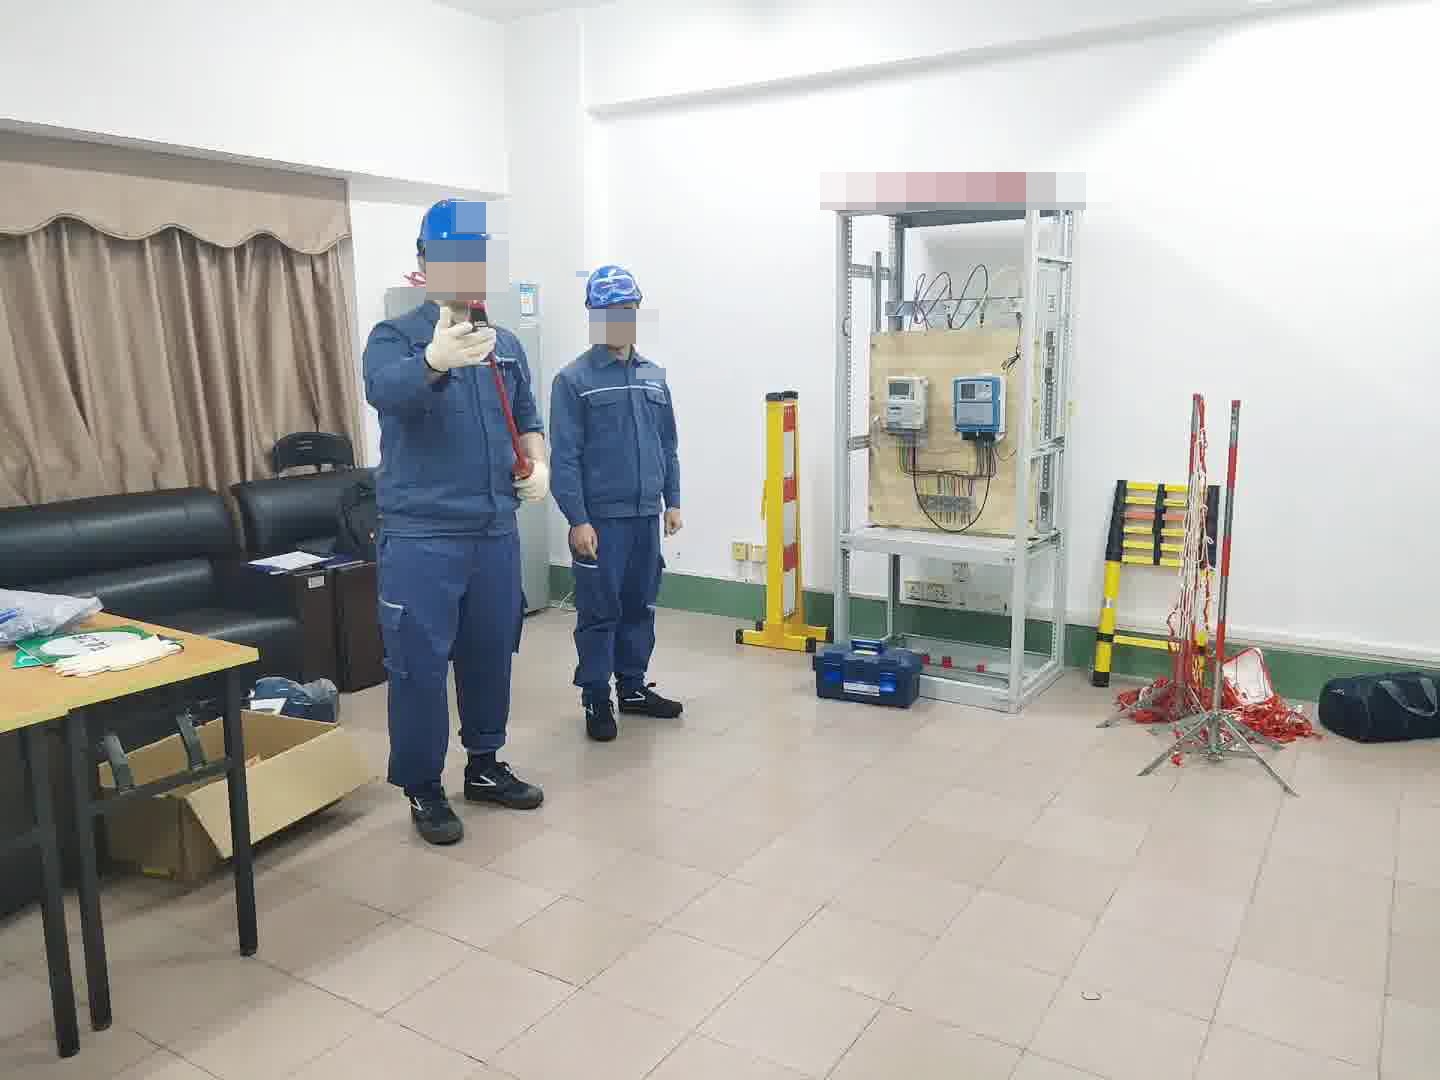downsuit: (377, 553, 530, 797), (569, 527, 666, 700)
halt: (415, 197, 501, 303), (583, 262, 648, 351)
hand: (571, 521, 599, 561), (664, 506, 683, 537)
person: (360, 195, 544, 834), (550, 260, 690, 732)
testrod: (472, 310, 525, 470)
upsuit: (360, 294, 537, 533), (552, 348, 683, 522)
wglove: (420, 305, 488, 375), (518, 462, 547, 502)
